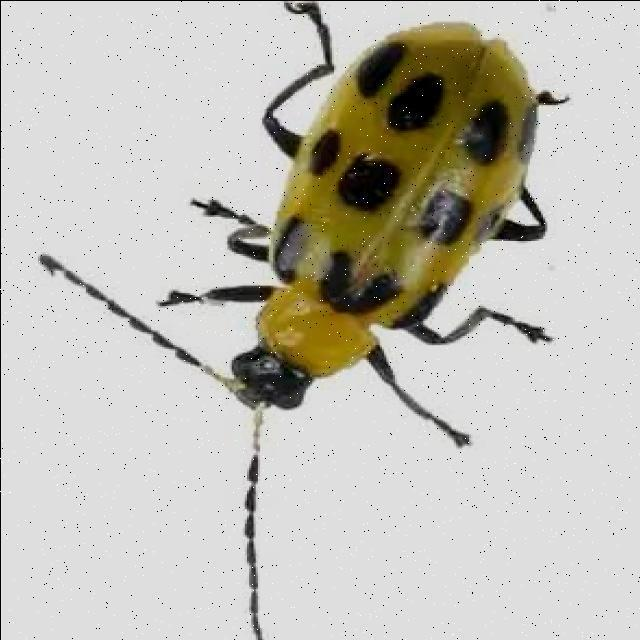gusano_verde: (39, 0, 573, 640)
